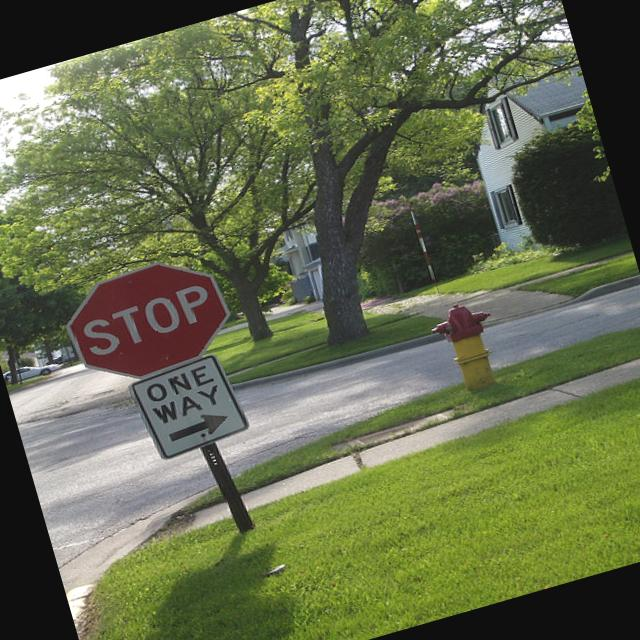Vehicle: (1, 355, 64, 385)
